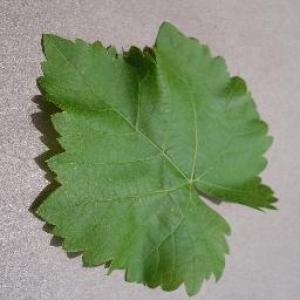Folha: (28, 20, 279, 296)
